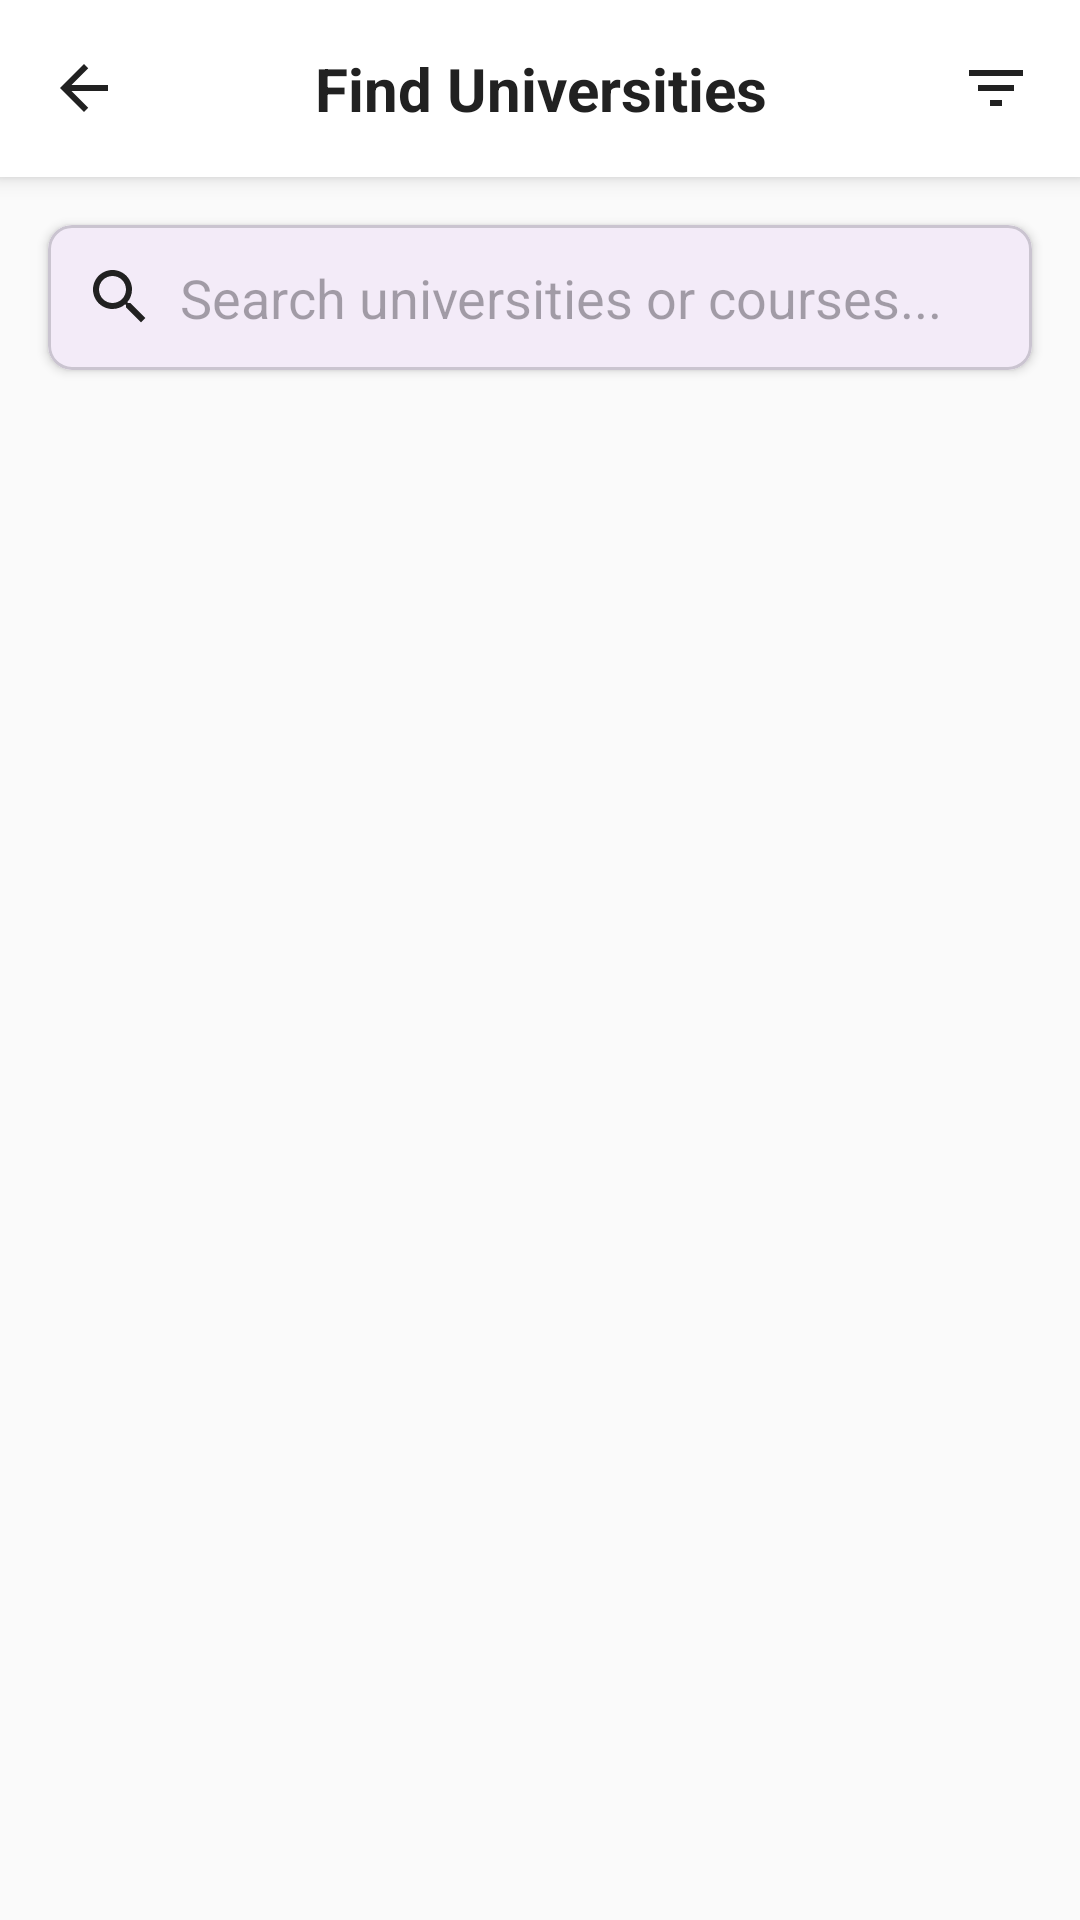

Icons on this 1080px x 1920px Android screen, each with its box as rect(x1, y1, x2, y2):
Back: rect(60, 64, 108, 112)
Filter: rect(969, 70, 1023, 106)
